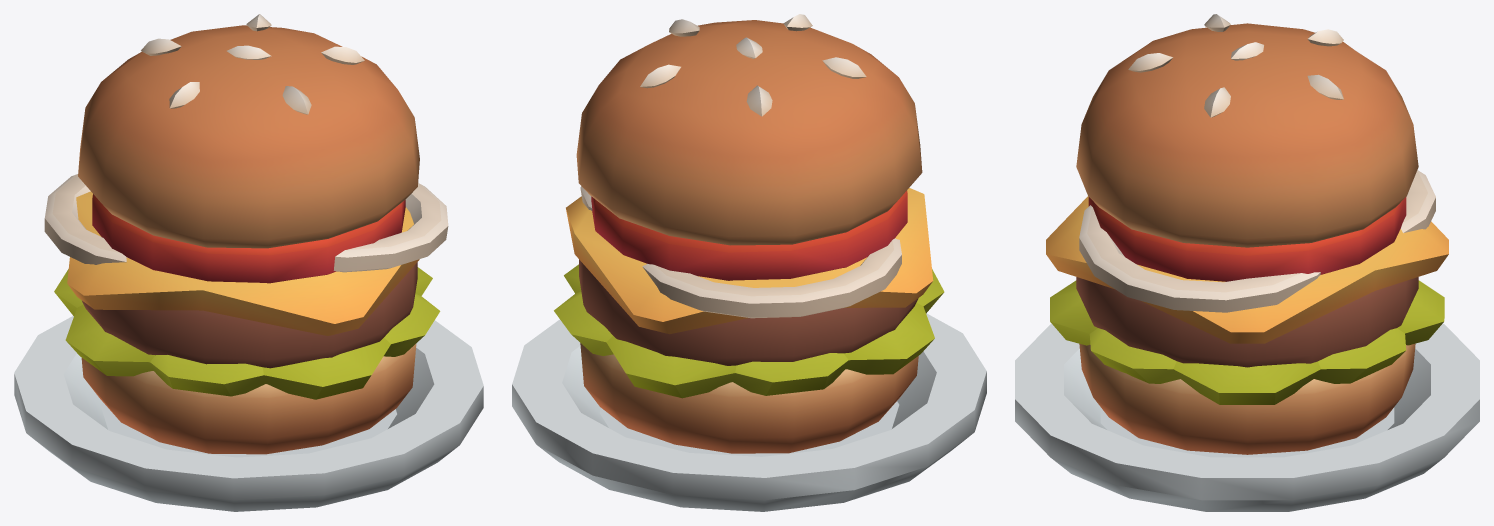
File: kay-food_burger.glb
3 views of the same model, side by side, from view 1: azimuth 30°, elevation 25°; view 2: azimuth 150°, elevation 25°; view 3: azimuth 270°, elevation 25° (orthographic).
Parts seen in each view (by area): view 1: food_burger; view 2: food_burger; view 3: food_burger.
Part boxes in pixels (box(x1,y1,x2,y2)): food_burger: box(14, 14, 483, 511); food_burger: box(512, 14, 986, 511); food_burger: box(1015, 14, 1479, 511).
Bounding box in the file's own units: 0.22 × 0.1985 × 0.22.
Materials: 1 (1 with a texture image).
